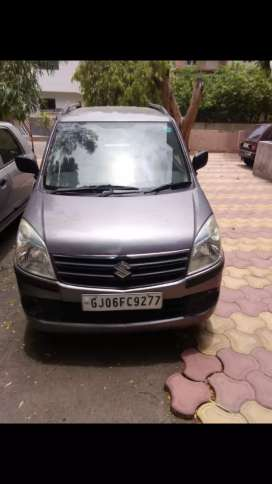license_plate: (81, 295, 164, 309)
